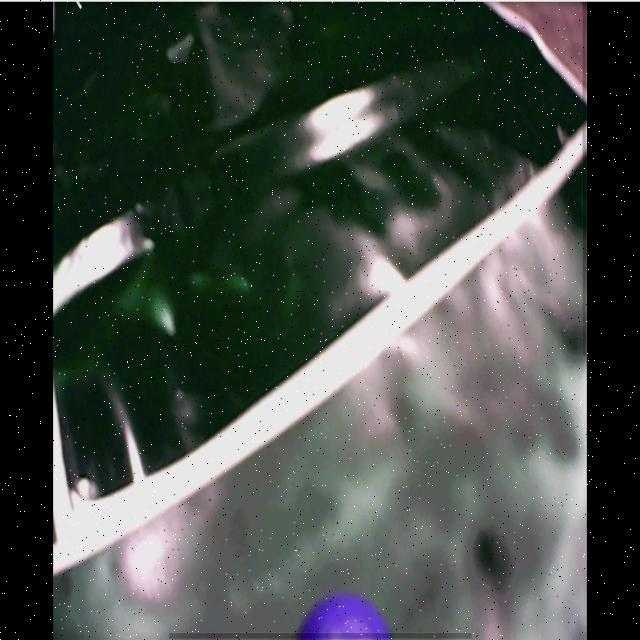ball: (289, 597, 389, 640)
